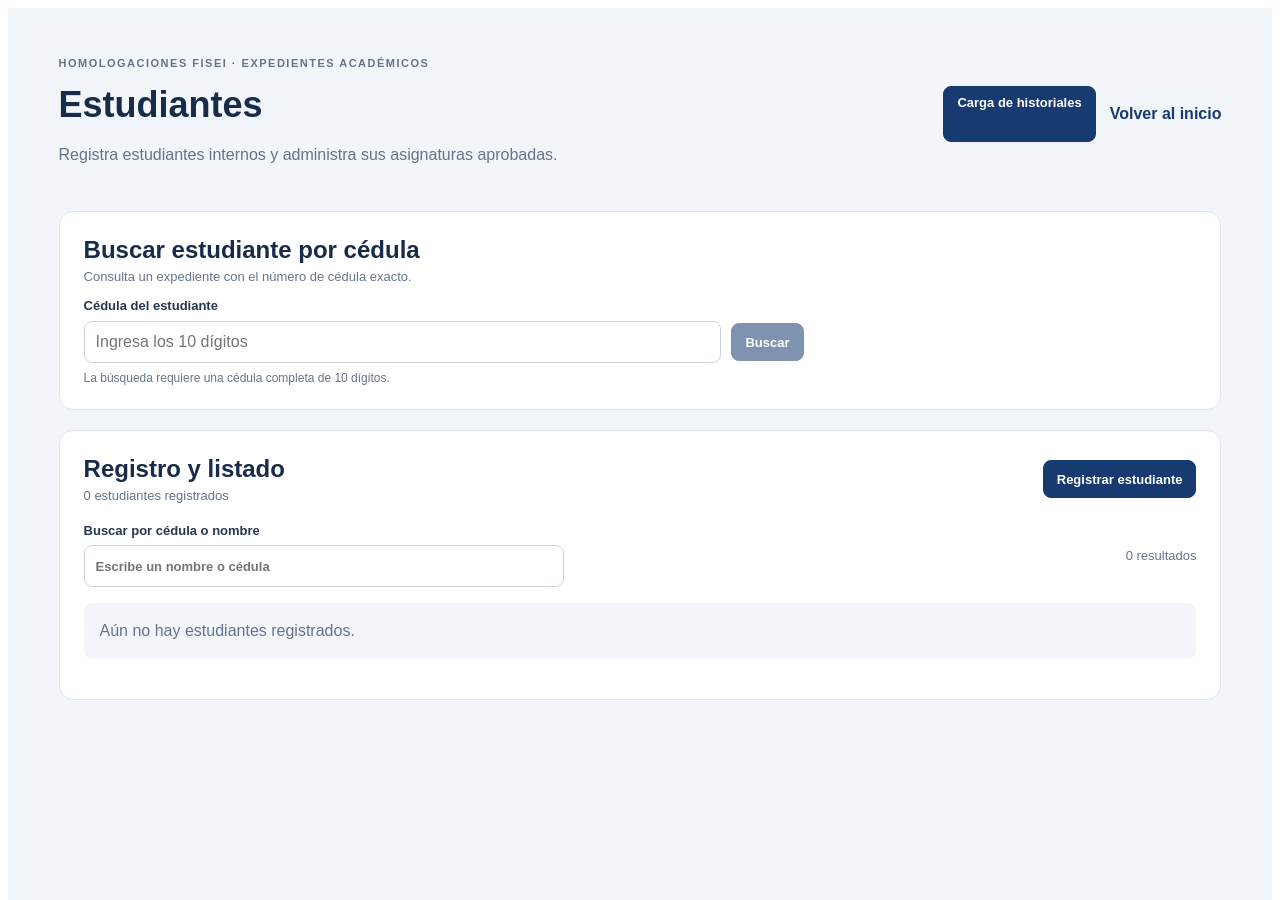
Test: Búsqueda de estudiantes por cédula › muestra un mensaje uniforme cuando la API no encuentra el estudiante
Expected: the text "0 estudiantes registrados" is shown, [84,488,229,503]
Type "0102030405" into the search field labelled "Cédula del estudiante" at (402,342), box [84,321,721,363]
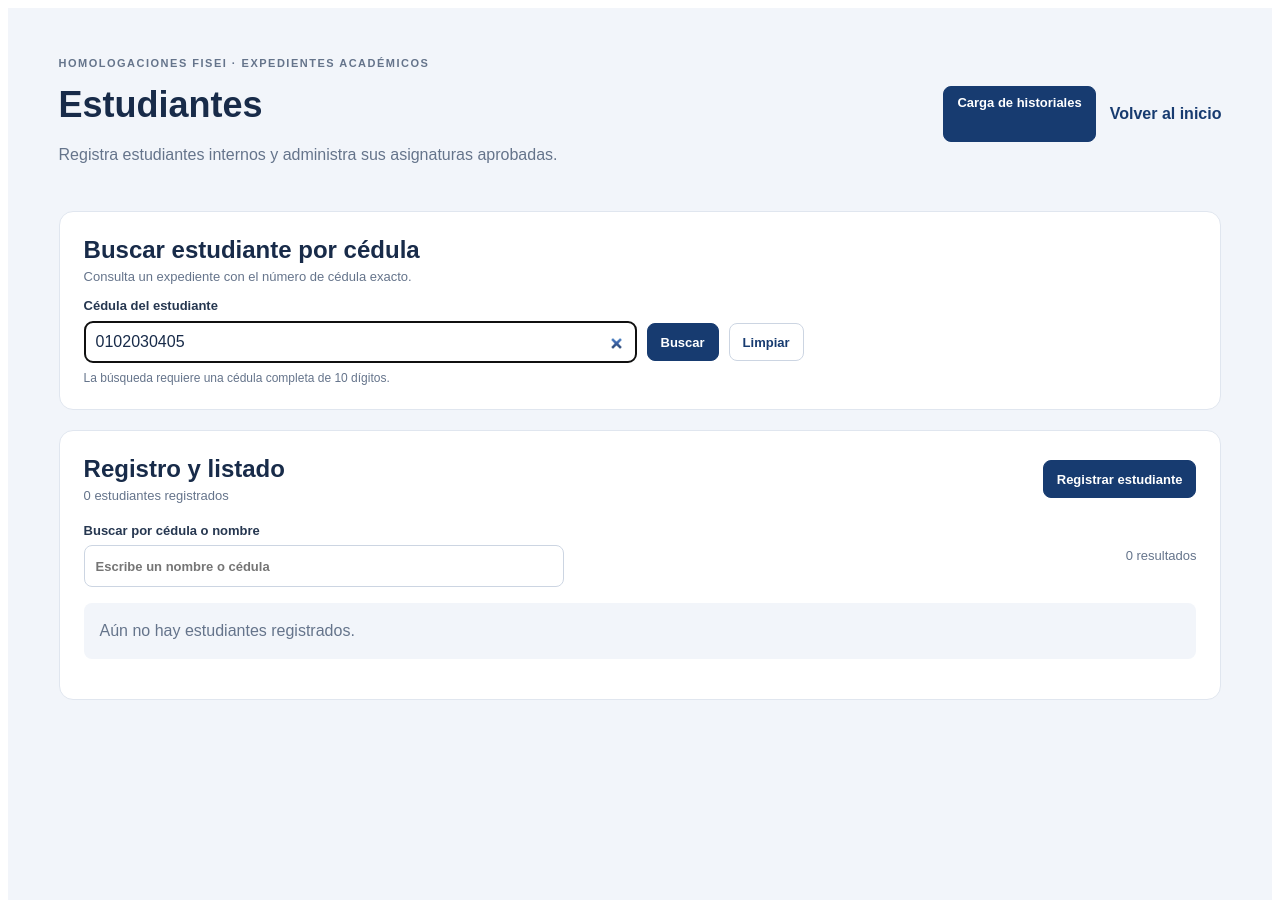
Click the button "Buscar" at (683,342), box [646,323,719,361]
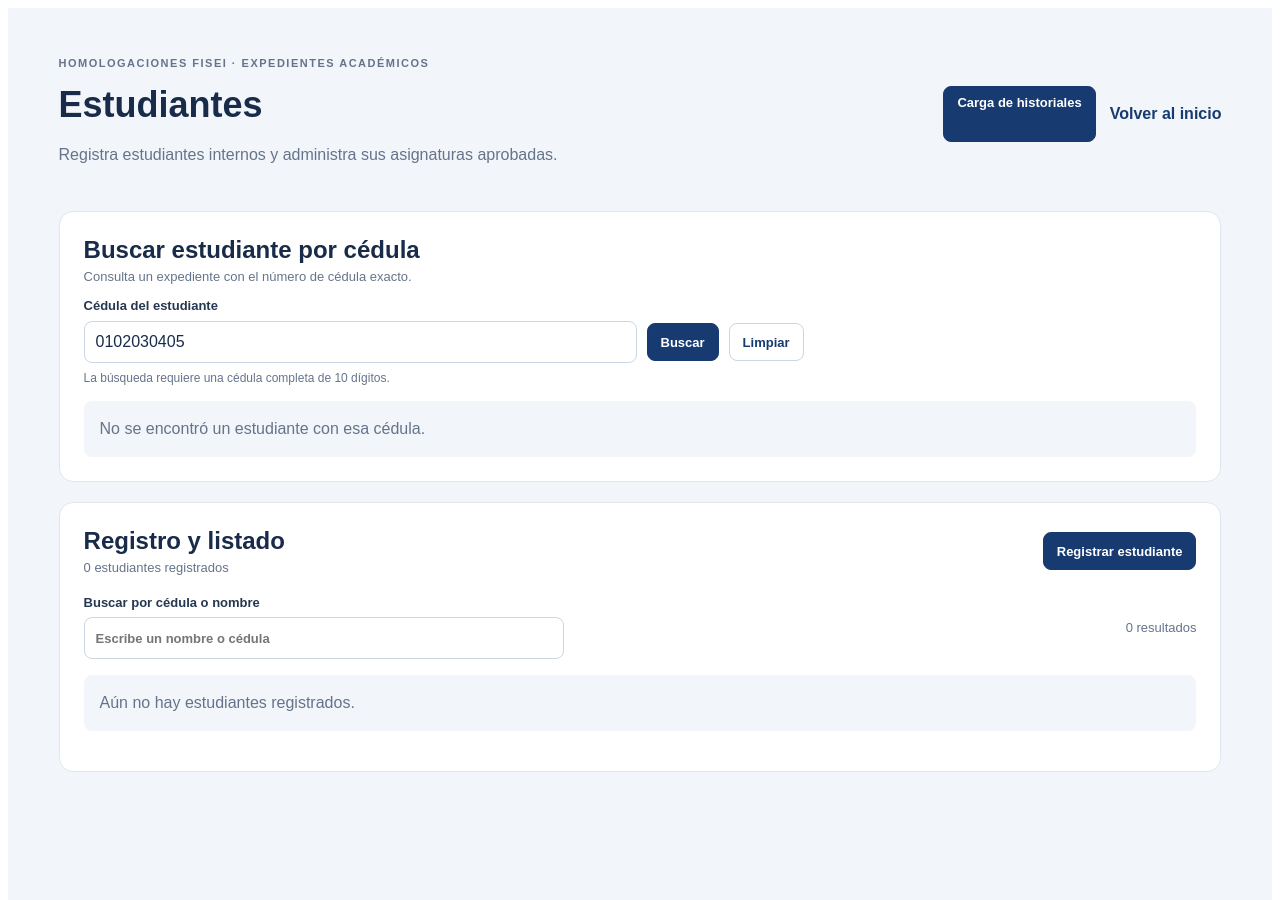
Result: the message reads "No se encontró un estudiante con esa cédula." at [100,420,425,437]
